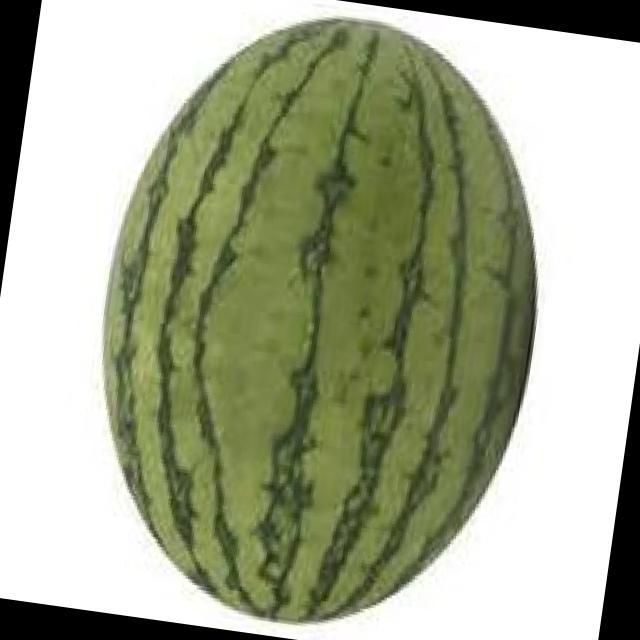watermelon: (106, 20, 534, 621)
